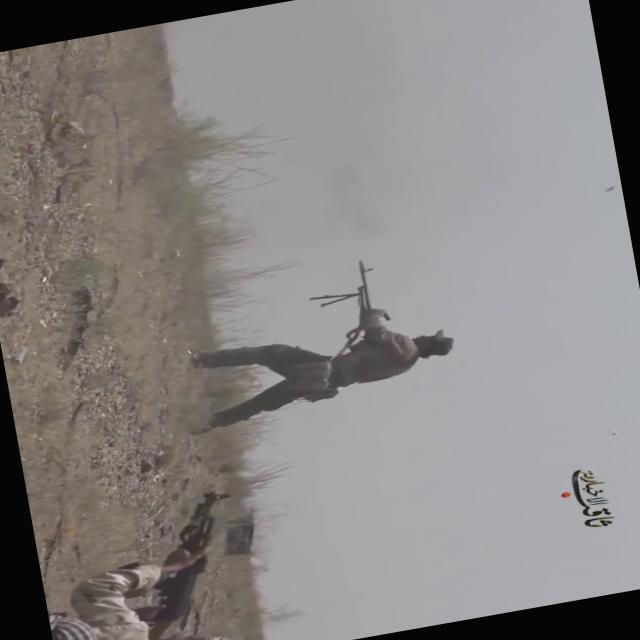long weapon: (307, 259, 408, 335)
